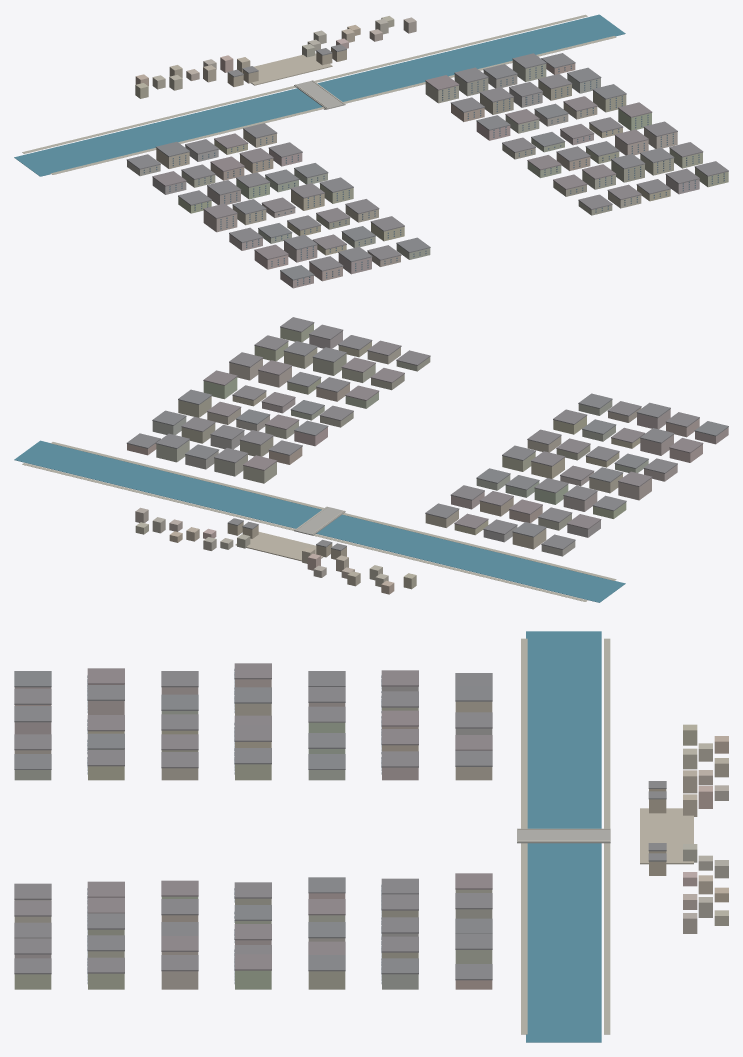
The model's file is paris_city.glb.
3 renders of one model, top to bottom at view 1: azimuth 30°, elevation 25°; view 2: azimuth 150°, elevation 25°; view 3: azimuth 270°, elevation 25°, orthographic. The views are drawn at different scales.
Parts seen in each view (by area): view 1: world; view 2: world; view 3: world.
Boxes of the visible parts, box(x1,y1,x2,y2) form: world: box(14, 14, 728, 288); world: box(14, 317, 728, 602); world: box(14, 631, 728, 1042).
Bounding box in the file's own units: 1350 × 38.2 × 992.
